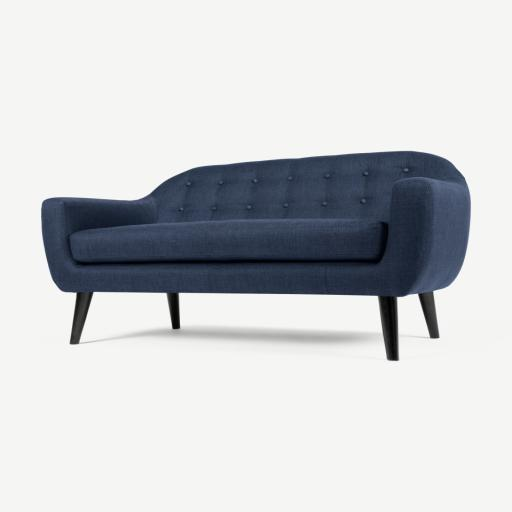back_cushion: (149, 152, 464, 222)
base: (74, 262, 391, 295)
left_arm: (365, 178, 470, 296)
legs: (379, 297, 397, 360), (70, 293, 92, 344), (420, 293, 438, 338), (167, 293, 180, 329)
one-seater: (42, 151, 470, 360)
right_arm: (42, 198, 156, 291)
seat_cushion: (68, 219, 387, 263)
